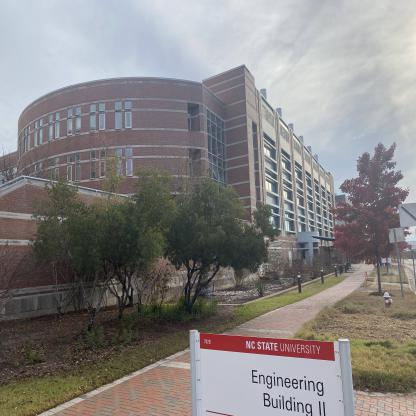EB-1: (12, 60, 354, 296)
